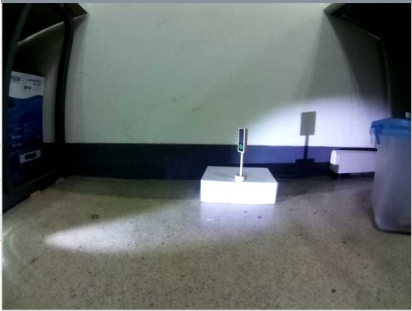Green: (235, 127, 251, 155)
